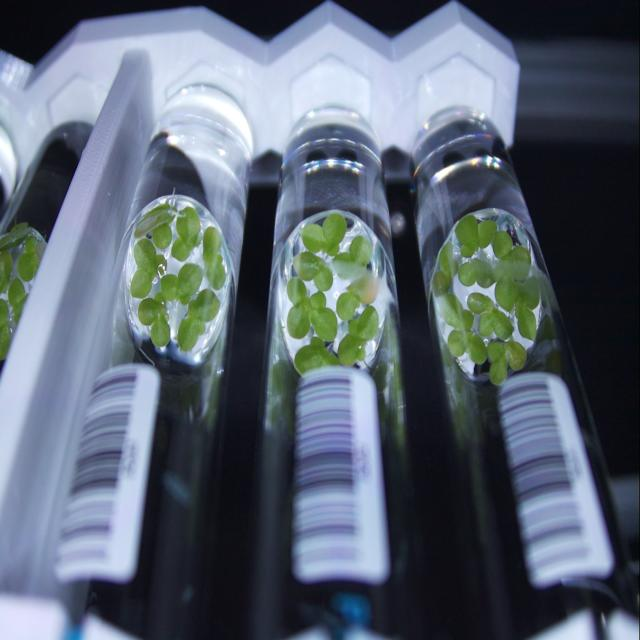Lemna-Gibba: (294, 337, 340, 374), (134, 203, 174, 238), (321, 213, 346, 255), (322, 212, 346, 254), (349, 272, 380, 304), (514, 295, 536, 340), (176, 207, 200, 247), (178, 264, 202, 304), (332, 252, 366, 280), (134, 238, 158, 277), (310, 307, 338, 340), (292, 252, 324, 280), (495, 275, 519, 312), (439, 294, 464, 329), (472, 259, 501, 289), (286, 304, 310, 339), (338, 334, 365, 365), (356, 305, 379, 340), (455, 215, 478, 248), (518, 277, 540, 310), (439, 242, 458, 280), (206, 254, 226, 290), (466, 333, 488, 365), (495, 260, 530, 280), (349, 235, 372, 265), (336, 292, 360, 320), (338, 335, 360, 365), (504, 340, 526, 370), (150, 315, 170, 347), (130, 269, 151, 299), (301, 223, 322, 253), (138, 299, 162, 325), (492, 309, 512, 340), (202, 227, 221, 258), (489, 354, 508, 385), (492, 230, 512, 259), (468, 292, 494, 314), (286, 277, 306, 305), (478, 220, 498, 248), (151, 223, 172, 249), (503, 245, 531, 264), (432, 270, 451, 297), (160, 274, 178, 302), (171, 237, 191, 262), (448, 330, 466, 357), (314, 267, 332, 292), (459, 262, 476, 287), (479, 312, 494, 337), (488, 340, 505, 362), (310, 292, 326, 310), (156, 254, 168, 275), (462, 310, 474, 330), (159, 309, 169, 329), (349, 319, 359, 337), (154, 292, 165, 304), (304, 297, 311, 311)
